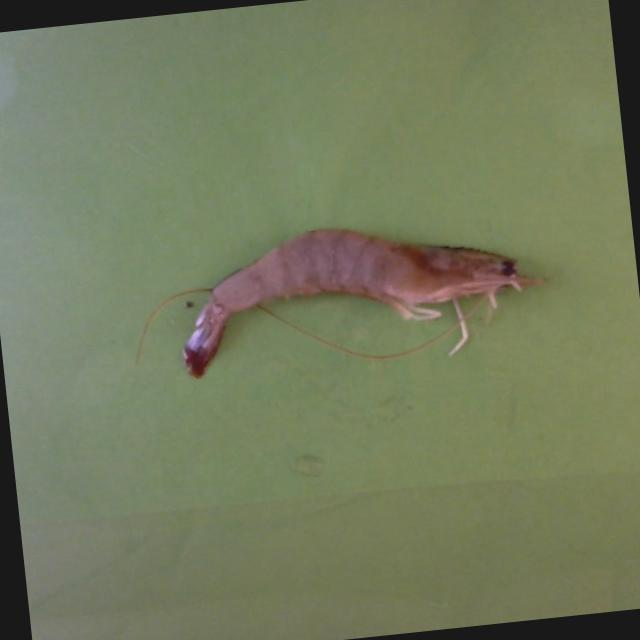shrimp: (183, 229, 540, 377)
